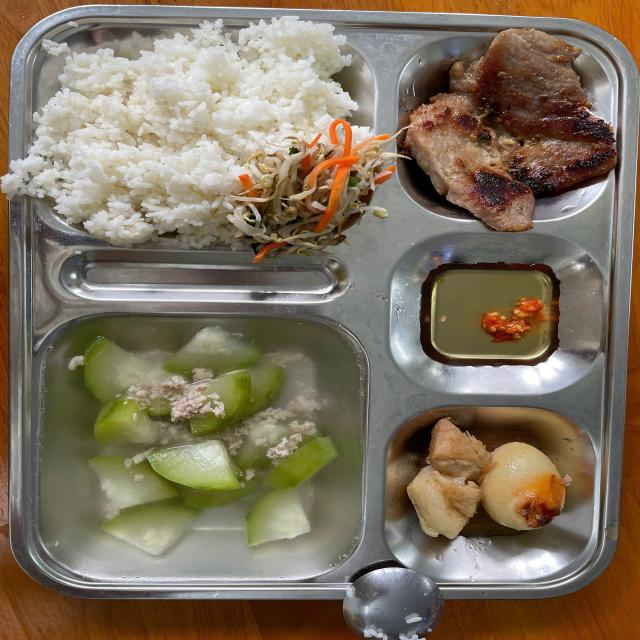canhbau: (40, 313, 370, 581)
giaxao: (228, 128, 394, 255)
salad: (0, 9, 372, 261)
suonram: (412, 38, 625, 234)
thitluoc: (408, 414, 574, 566)
